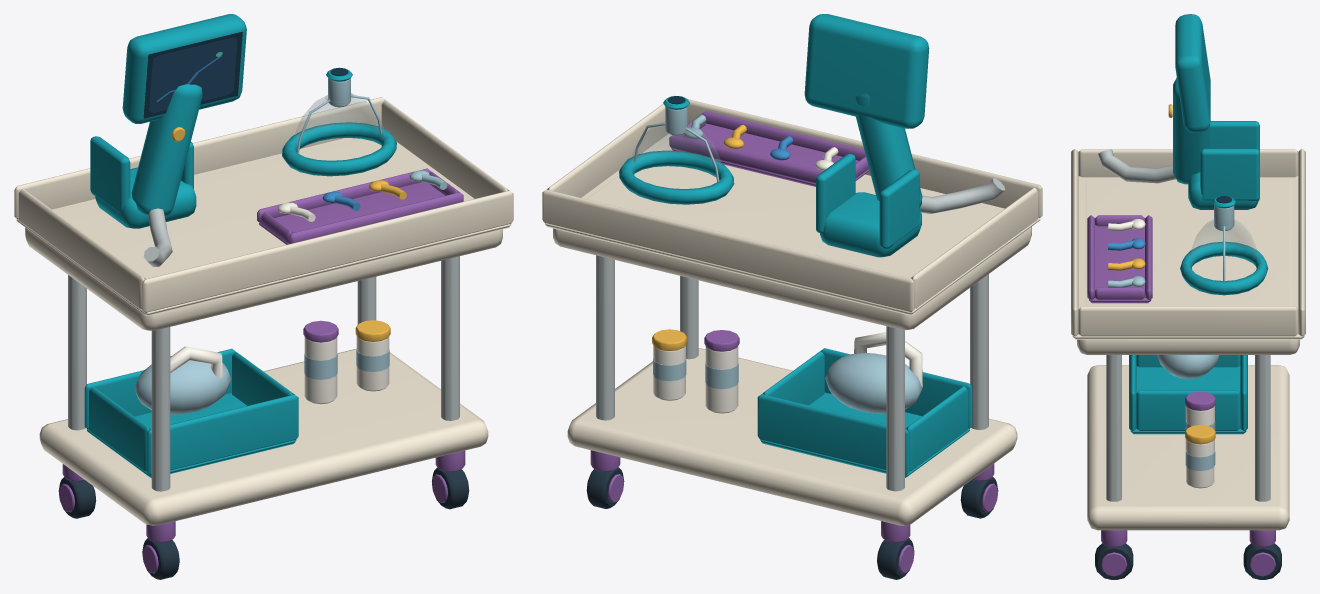
Rendered from medical-13.glb.
The picture shows the model from 3 angles, left to right: view 1: azimuth 30°, elevation 25°; view 2: azimuth 150°, elevation 25°; view 3: azimuth 270°, elevation 25°; orthographic projection. The views are drawn at different scales.
Visible parts, largest first — view 1: 13_AirReady_Body, 13_AirReady_Glass; view 2: 13_AirReady_Body, 13_AirReady_Glass; view 3: 13_AirReady_Body, 13_AirReady_Glass.
Boxes of the visible parts, left/top/right/bottom form: 13_AirReady_Body: left=14, top=14, right=513, bottom=579; 13_AirReady_Glass: left=294, top=93, right=384, bottom=142; 13_AirReady_Body: left=542, top=14, right=1042, bottom=579; 13_AirReady_Glass: left=631, top=121, right=721, bottom=170; 13_AirReady_Body: left=1071, top=14, right=1305, bottom=579; 13_AirReady_Glass: left=1189, top=219, right=1258, bottom=260.
Size of the model in its own units: 1.28 by 1.66 by 0.79.
Materials: 2 (1 with a texture image).
